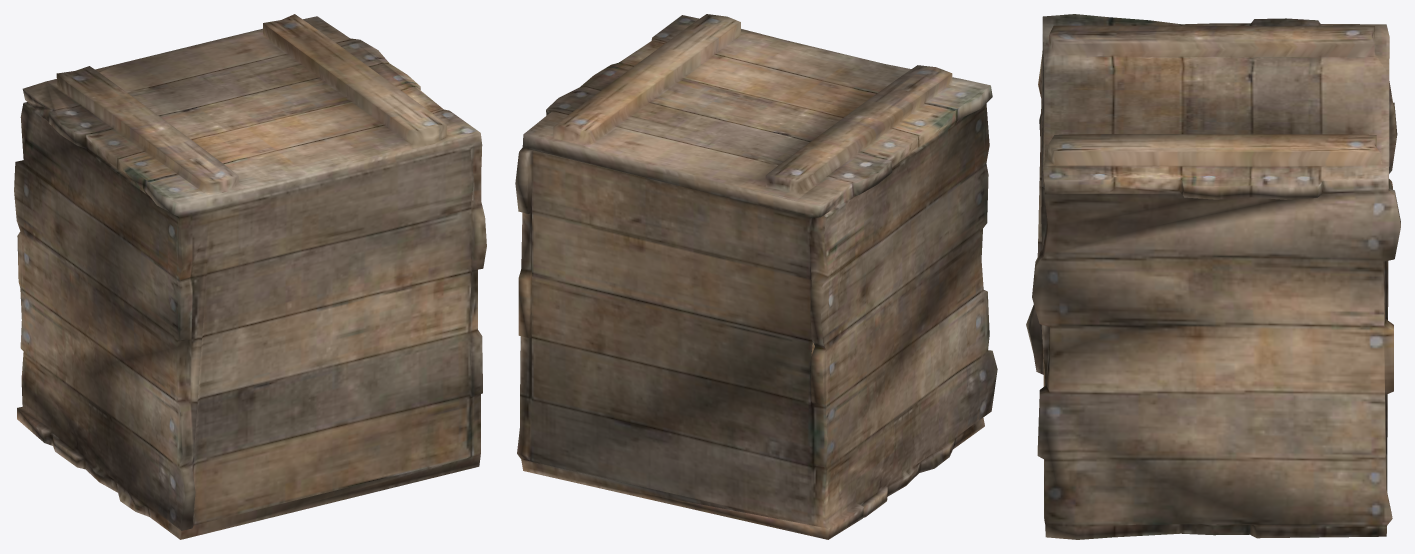
The model's file is CargoboxDesert.glb.
3 views of the same model, side by side, from view 1: azimuth 30°, elevation 25°; view 2: azimuth 150°, elevation 25°; view 3: azimuth 270°, elevation 25° (orthographic). The views are drawn at different scales.
Visible parts, largest first — view 1: box1_box_0; view 2: box1_box_0; view 3: box1_box_0.
Boxes of the visible parts, x1,y1,x2,y2 form: box1_box_0: (14,14,486,539); box1_box_0: (515,14,997,539); box1_box_0: (1026,14,1400,539).
Bounding box in the file's own units: 0.5834 × 0.6038 × 0.5529.
1 material, 1 textured.
